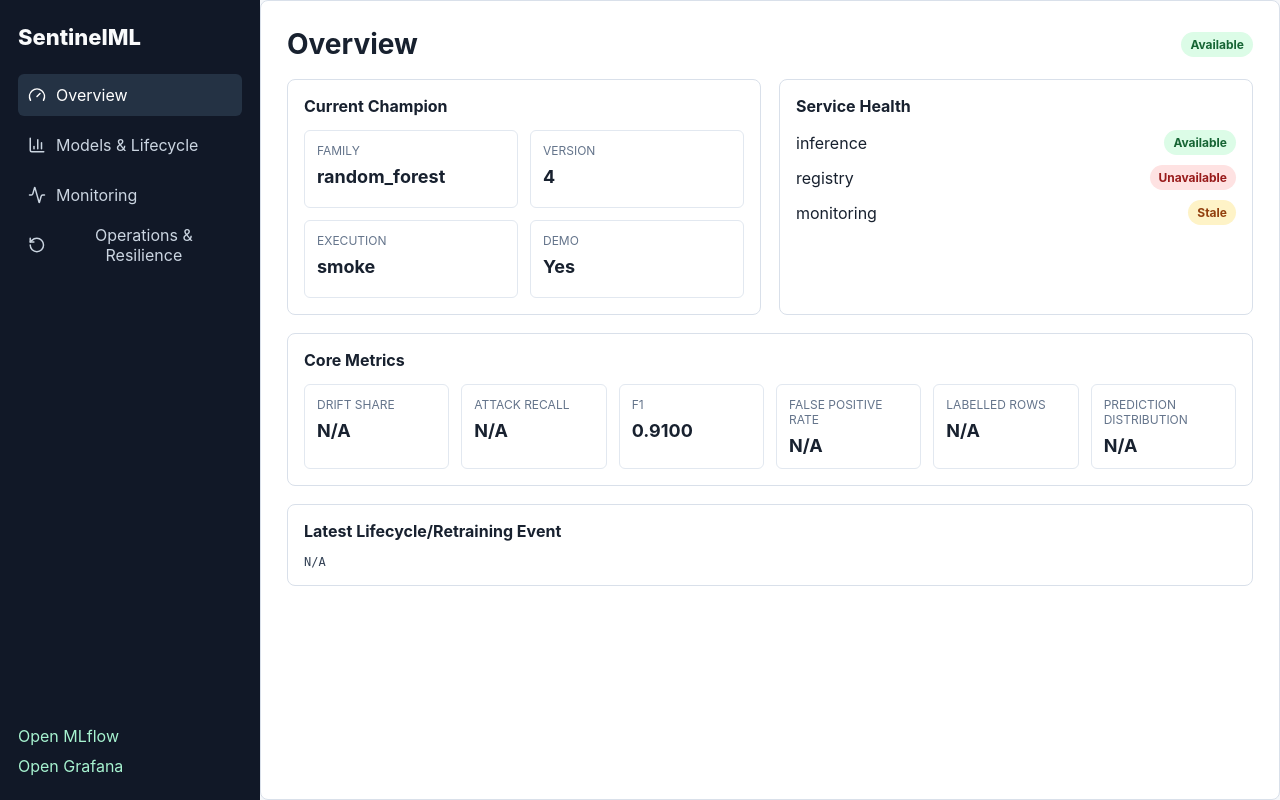
it: SentinelML operations dashboard › renders the models table
Step 1. Click the button "Models & Lifecycle" → (130, 145), box [18,124,242,166]
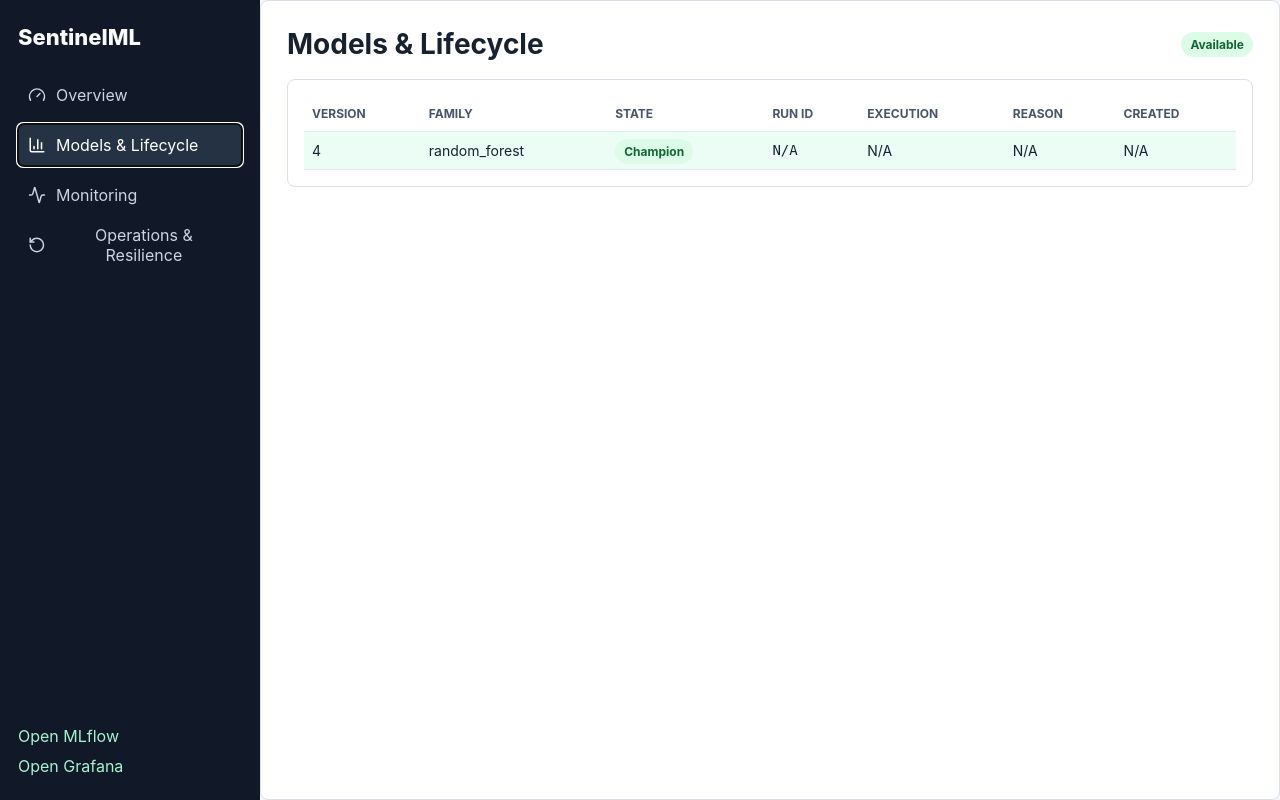
Expected: the text "champion" is shown, [615,139,693,164]
Now the column heading "Run ID" is shown, box [764,96,859,132]
